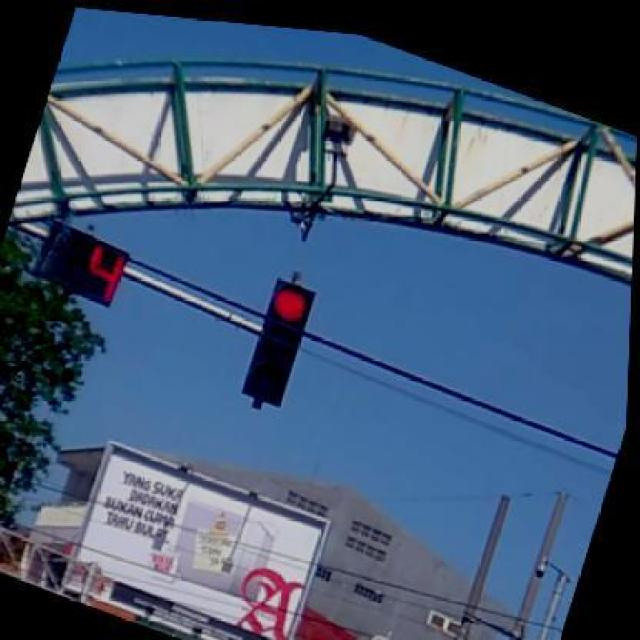Traffic Light -Red-: (242, 276, 316, 410)
